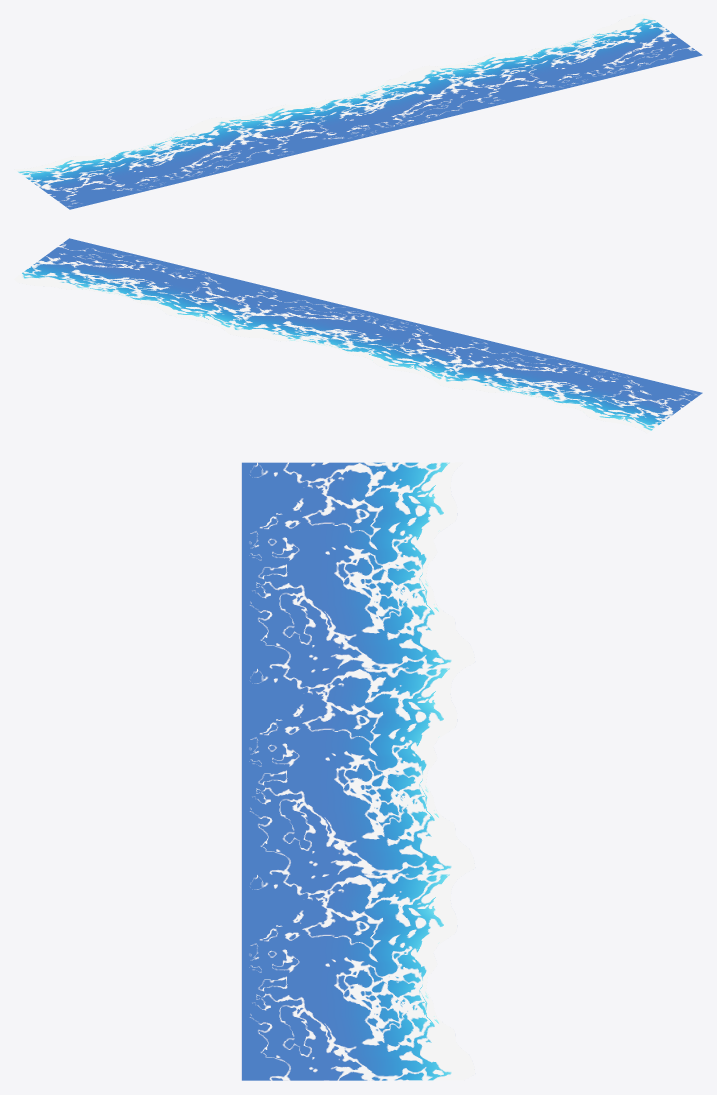
Rendered from shoreline.glb.
The picture shows the model from 3 angles, top to bottom: view 1: azimuth 30°, elevation 25°; view 2: azimuth 150°, elevation 25°; view 3: azimuth 270°, elevation 25°; orthographic projection. The views are drawn at different scales.
Visible parts, largest first — view 1: Plane; view 2: Plane; view 3: Plane.
Boxes of the visible parts, left/top/right/bottom form: Plane: left=14, top=14, right=702, bottom=209; Plane: left=14, top=238, right=702, bottom=433; Plane: left=241, top=462, right=475, bottom=1080.
Bounding box in the file's own units: 6 × 0 × 0.9582.
1 material, 1 textured.
